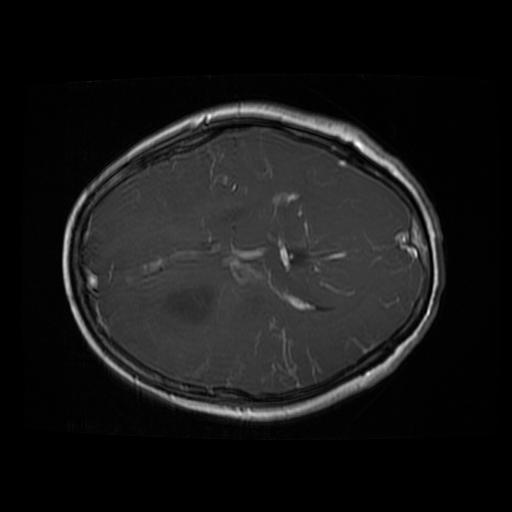glioma: (157, 284, 216, 329)
